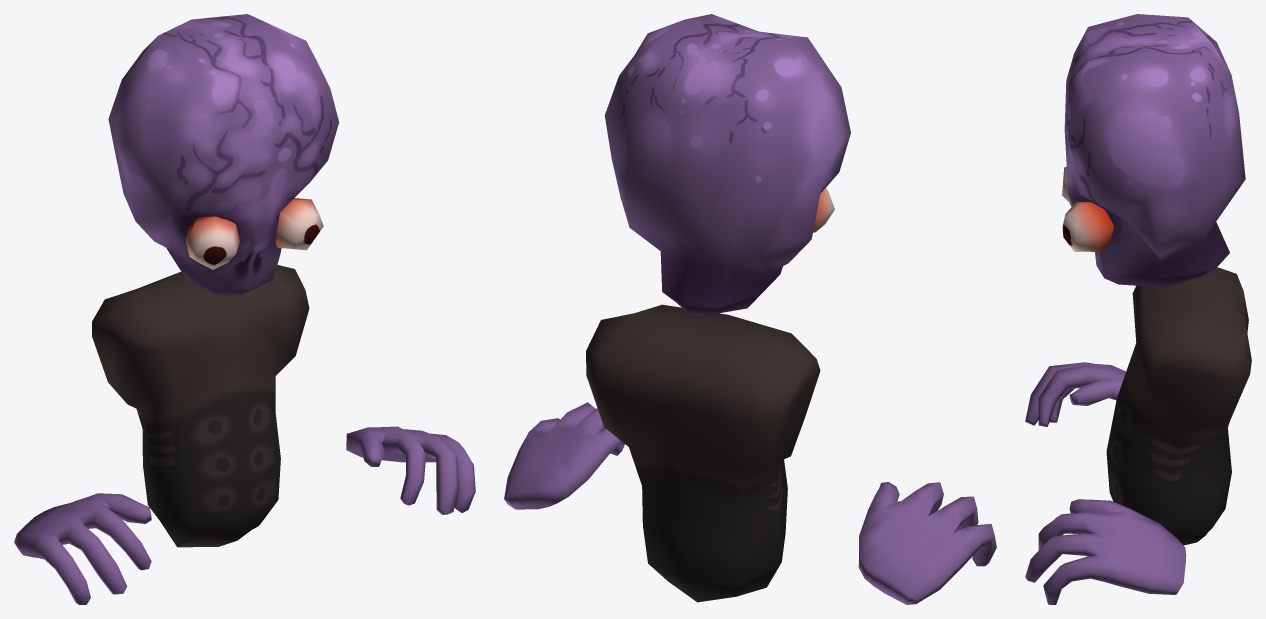
The model's file is UT_Character001.fbx.
The picture shows the model from 3 angles, left to right: view 1: azimuth 30°, elevation 25°; view 2: azimuth 150°, elevation 25°; view 3: azimuth 270°, elevation 25°; orthographic projection. The views are drawn at different scales.
Parts seen in each view (by area): view 1: polySurface69, polySurface71, polySurface70, polySurface72; view 2: polySurface69, polySurface71, polySurface70, polySurface72; view 3: polySurface69, polySurface71, polySurface72, polySurface70.
Boxes of the visible parts, bbox=[...] form: polySurface69: bbox=[108, 14, 339, 296]; polySurface71: bbox=[92, 265, 309, 547]; polySurface70: bbox=[14, 493, 151, 604]; polySurface72: bbox=[346, 426, 475, 514]; polySurface69: bbox=[604, 14, 850, 315]; polySurface71: bbox=[586, 304, 820, 602]; polySurface70: bbox=[858, 482, 996, 604]; polySurface72: bbox=[504, 402, 624, 509]; polySurface69: bbox=[1062, 14, 1245, 287]; polySurface71: bbox=[1106, 267, 1251, 545]; polySurface72: bbox=[1025, 499, 1186, 604]; polySurface70: bbox=[1025, 362, 1125, 426].
Size of the model in its own units: 2.18 by 2.54 by 1.03.
Materials: 1 (1 with a texture image).
